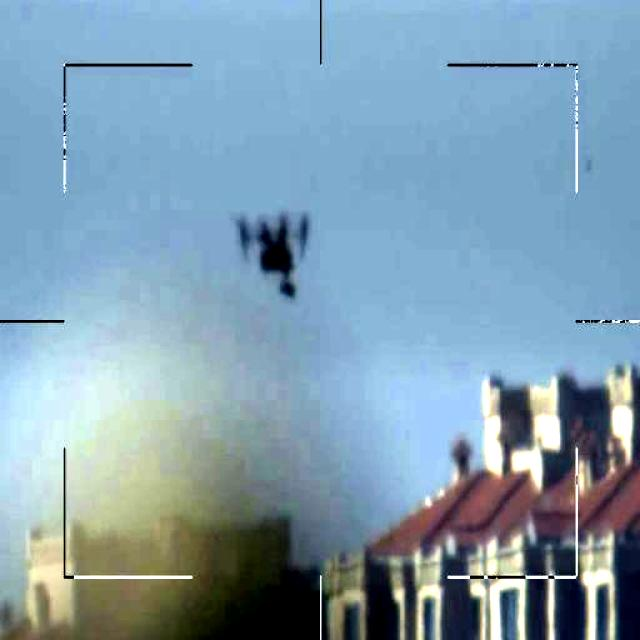bird: (235, 208, 319, 299)
